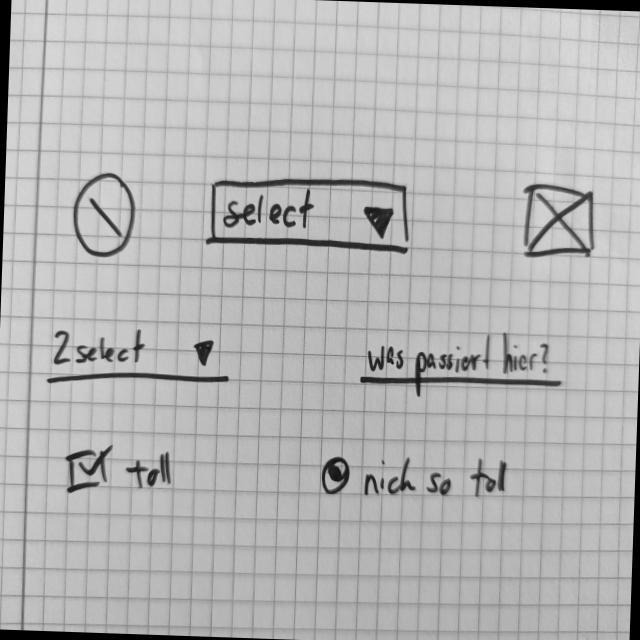checkbox: (64, 440, 176, 502)
icon-button: (70, 170, 139, 262)
image: (518, 179, 599, 265)
input: (358, 323, 567, 408)
radio: (319, 450, 516, 506)
select: (206, 172, 417, 259), (46, 323, 235, 395)
